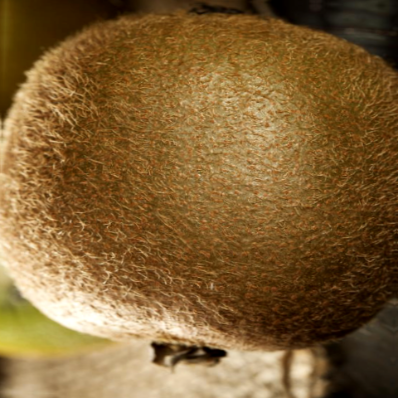kiwi: (0, 0, 398, 392)
